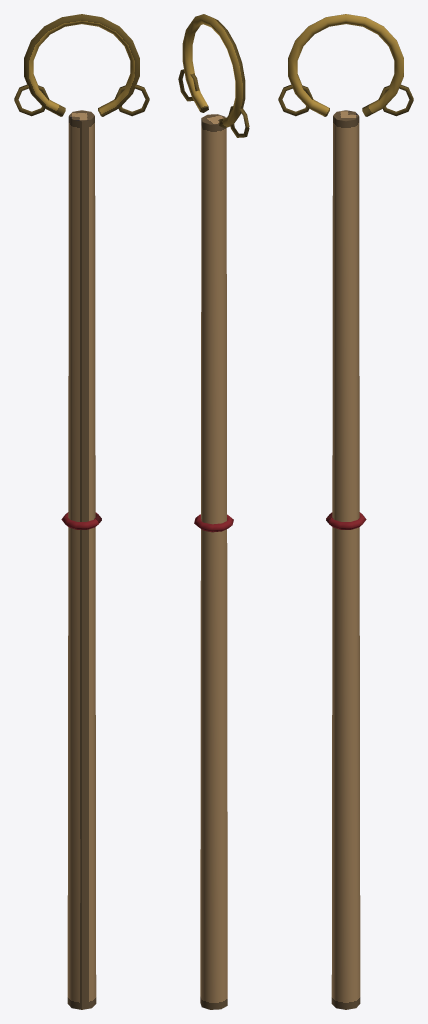
The model's file is monk_staff.glb.
3 renders of one model, left to right at view 1: azimuth 90°, elevation 25°; view 2: azimuth 210°, elevation 25°; view 3: azimuth 270°, elevation 25°, orthographic.
Visible parts, largest first — view 1: monk_staff; view 2: monk_staff; view 3: monk_staff.
Part boxes in pixels (left/top/right/bottom): monk_staff: left=14, top=14, right=149, bottom=1009; monk_staff: left=178, top=14, right=249, bottom=1009; monk_staff: left=278, top=14, right=413, bottom=1009.
Size of the model in its own units: 0.0437 by 1.23 by 0.1516.
1 material, 1 textured.
